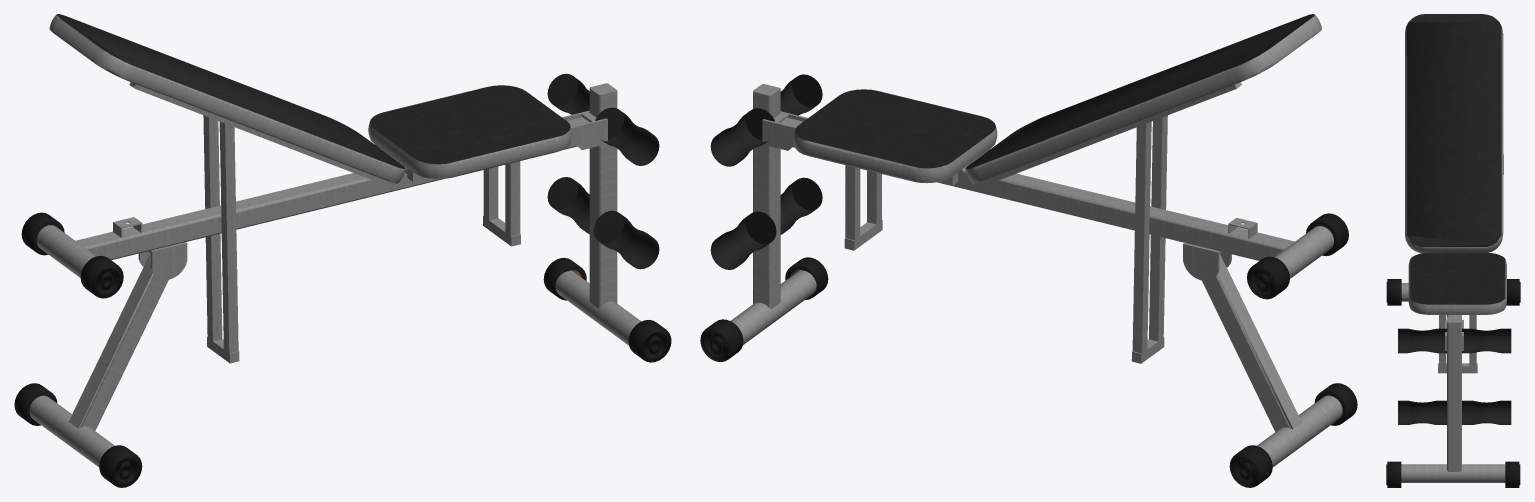
File: adjustable-bench.glb
3 views of the same model, side by side, from view 1: azimuth 30°, elevation 25°; view 2: azimuth 150°, elevation 25°; view 3: azimuth 270°, elevation 25° (orthographic). The views are drawn at different scales.
Parts seen in each view (by area): view 1: adjustable-bench; view 2: adjustable-bench; view 3: adjustable-bench.
Part boxes in pixels (<box>): adjustable-bench: <box>14,14,671,487</box>; adjustable-bench: <box>700,14,1357,487</box>; adjustable-bench: <box>1386,14,1520,487</box>.
Size of the model in its own units: 1.45 by 1.03 by 0.4269.
4 materials, 3 textured.
